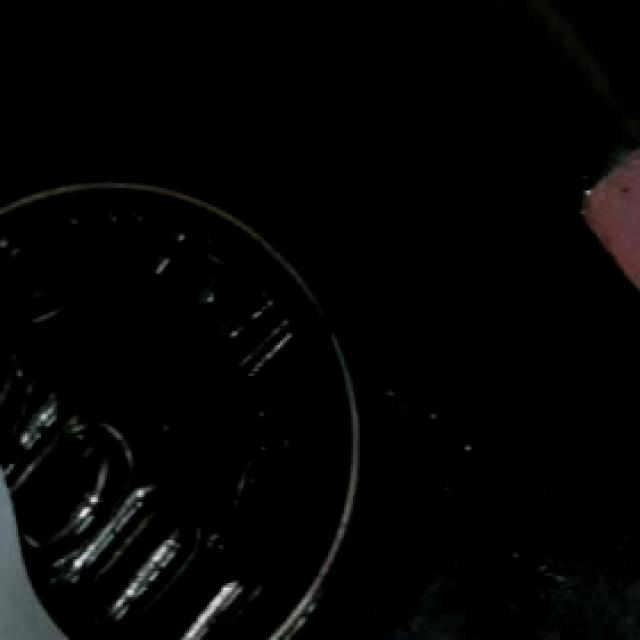Microplastic: (0, 430, 82, 640)
